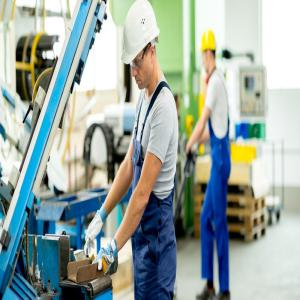white: (122, 3, 164, 91)
yellow: (201, 32, 218, 75)
